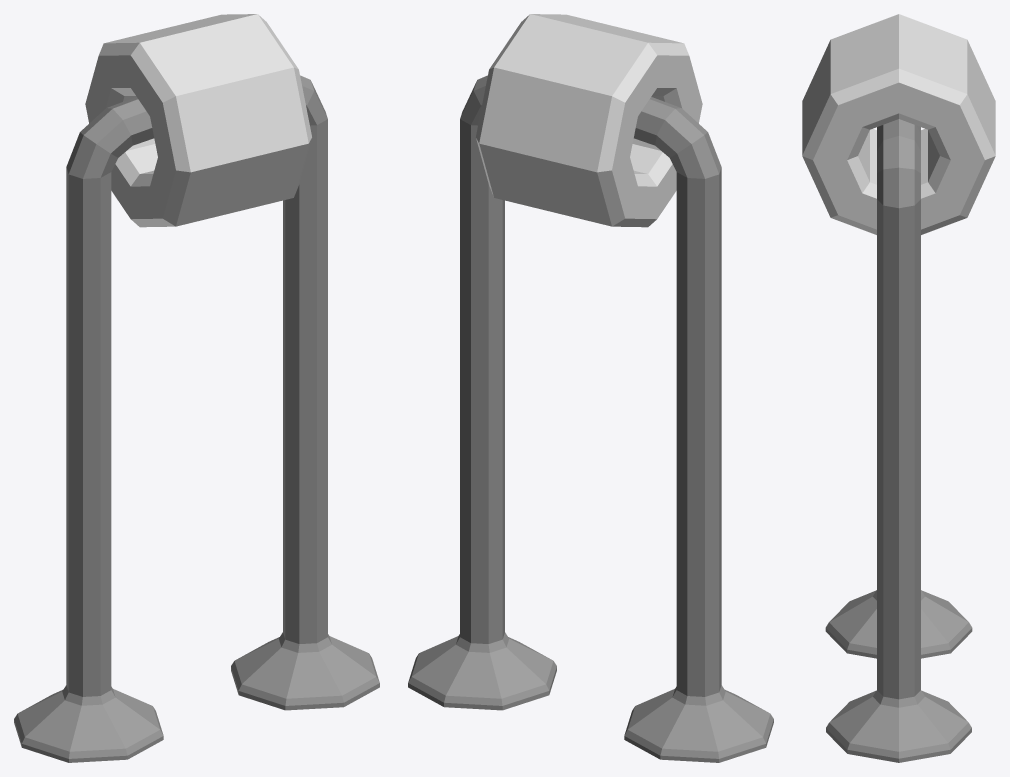
File: ToiletPaper.fbx
The picture shows the model from 3 angles, left to right: view 1: azimuth 30°, elevation 25°; view 2: azimuth 150°, elevation 25°; view 3: azimuth 270°, elevation 25°; orthographic projection. The views are drawn at different scales.
Parts seen in each view (by area): view 1: ToiletPaper; view 2: ToiletPaper; view 3: ToiletPaper.
Boxes of the visible parts, x1,y1,x2,y2 form: ToiletPaper: (14, 14, 379, 762); ToiletPaper: (408, 14, 773, 762); ToiletPaper: (802, 14, 995, 762).
Size of the model in its own units: 0.2966 by 0.5475 by 0.1498.
1 material, 1 textured.
